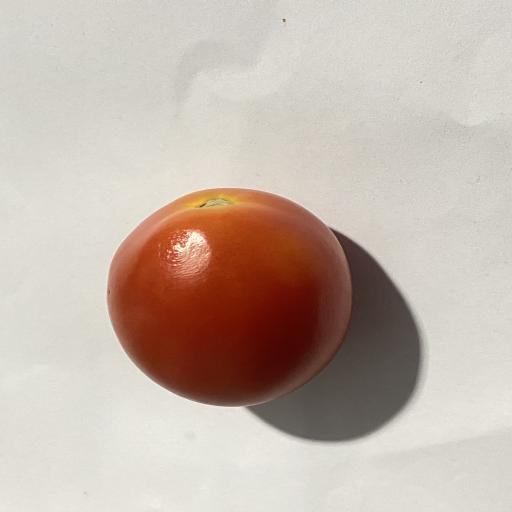overipe: (108, 189, 351, 406)
